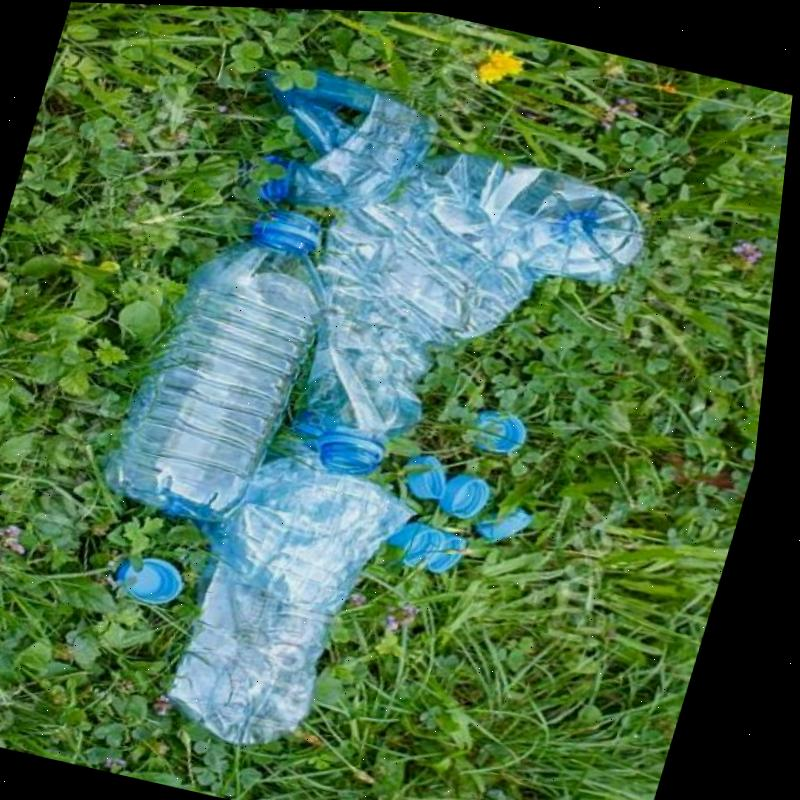botella: (272, 122, 667, 522), (162, 432, 438, 765), (107, 187, 362, 531), (239, 54, 452, 226)
